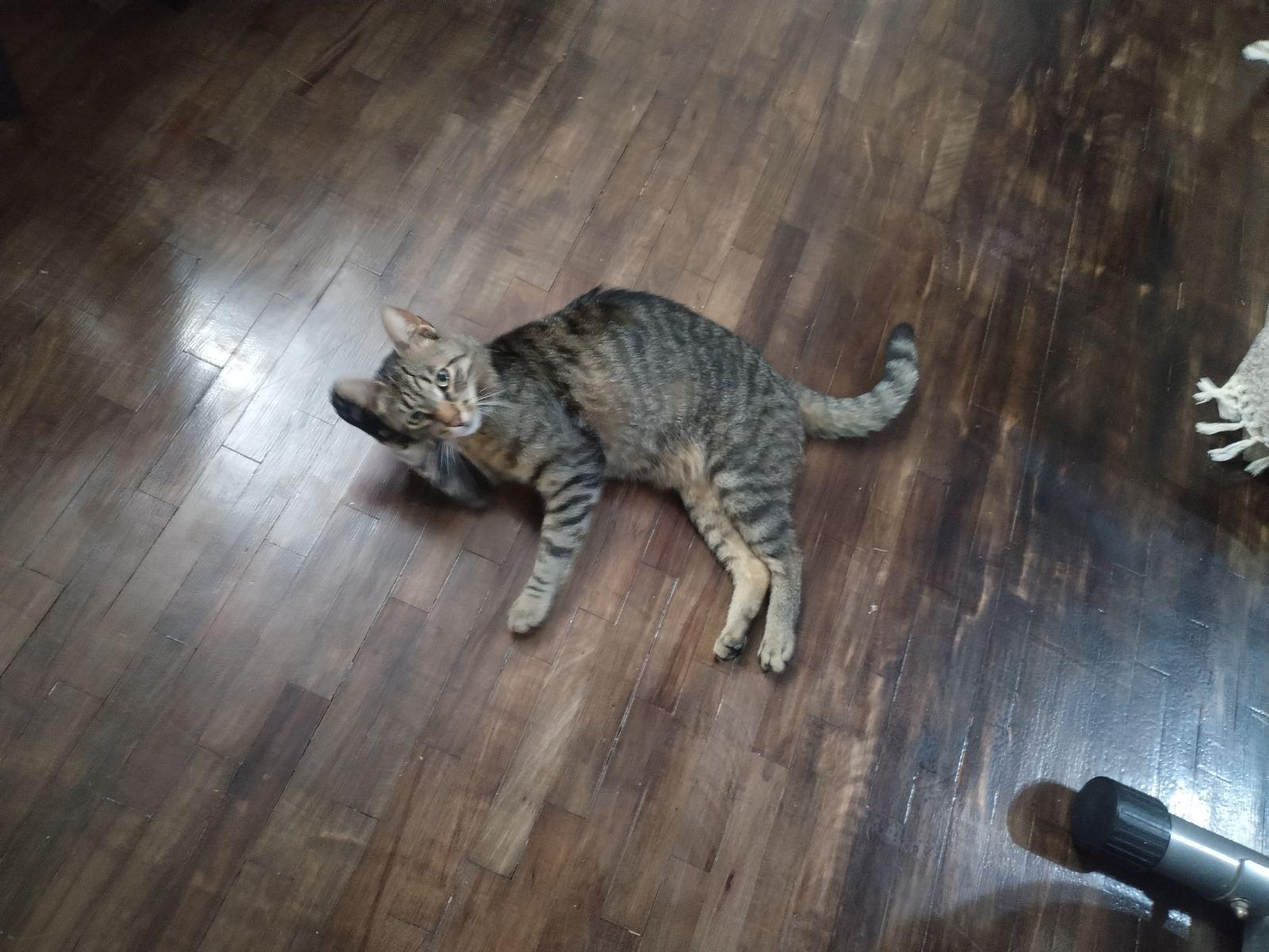macka: (330, 289, 924, 679)
